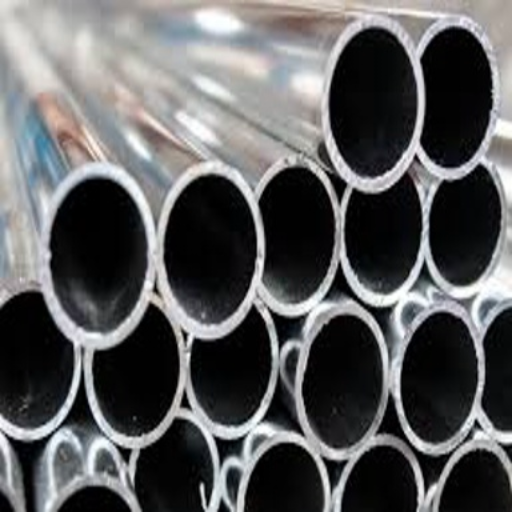Square: (44, 170, 151, 339), (161, 168, 259, 330), (328, 20, 419, 183), (89, 301, 183, 442), (297, 308, 386, 454), (259, 160, 339, 310), (420, 24, 500, 171), (189, 297, 275, 430), (400, 307, 480, 447), (1, 287, 76, 430), (344, 169, 422, 298), (431, 164, 503, 286), (132, 415, 217, 510), (242, 436, 327, 511), (340, 443, 422, 511), (438, 448, 511, 511), (480, 308, 510, 432), (58, 484, 132, 511)
